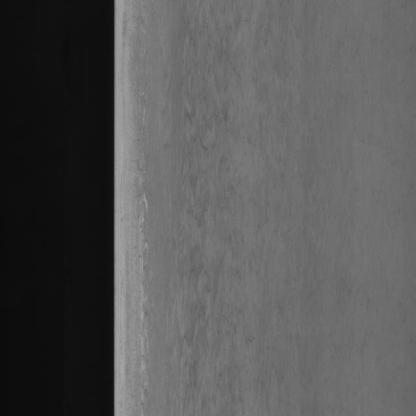silk_spot: (165, 6, 309, 406)
